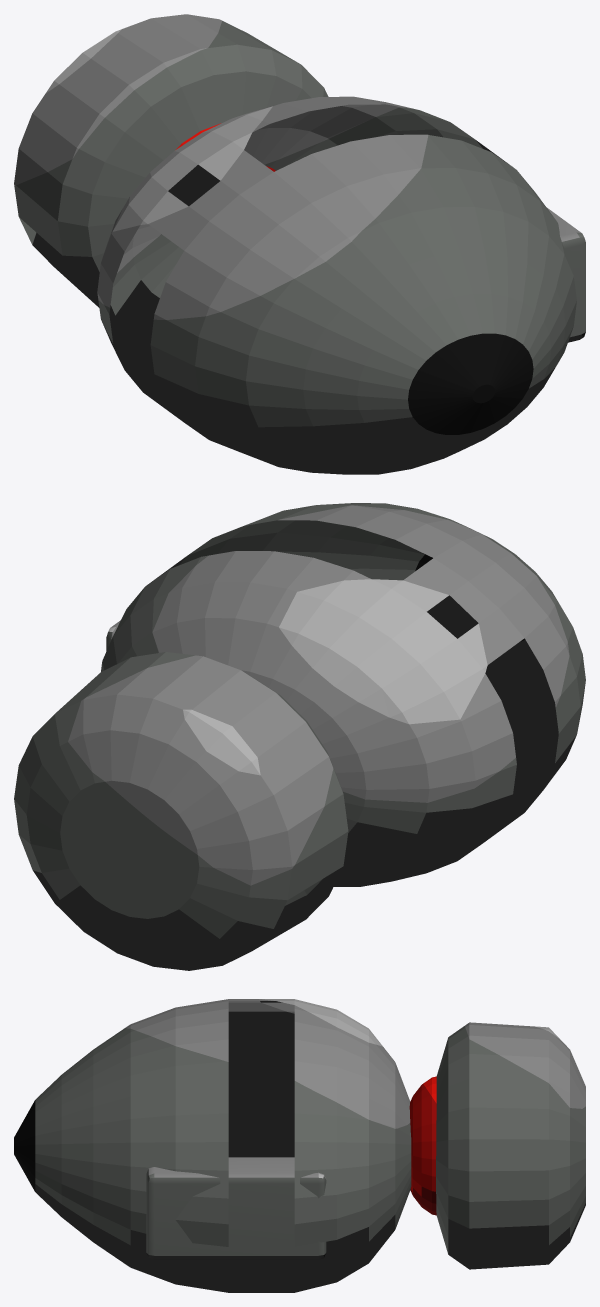
Rendered from ice_drill_arm_203.glb.
3 views of the same model, one above another, from view 1: azimuth 30°, elevation 25°; view 2: azimuth 150°, elevation 25°; view 3: azimuth 270°, elevation 25° (orthographic). The views are drawn at different scales.
Visible parts, largest first — view 1: ice_drill_arm_203; view 2: ice_drill_arm_203; view 3: ice_drill_arm_203.
Part boxes in pixels (box(x1,y1,x2,y2)): ice_drill_arm_203: box(14, 14, 585, 474); ice_drill_arm_203: box(14, 503, 585, 970); ice_drill_arm_203: box(14, 999, 585, 1292).
Bounding box in the file's own units: 14 × 10.36 × 21.6.
